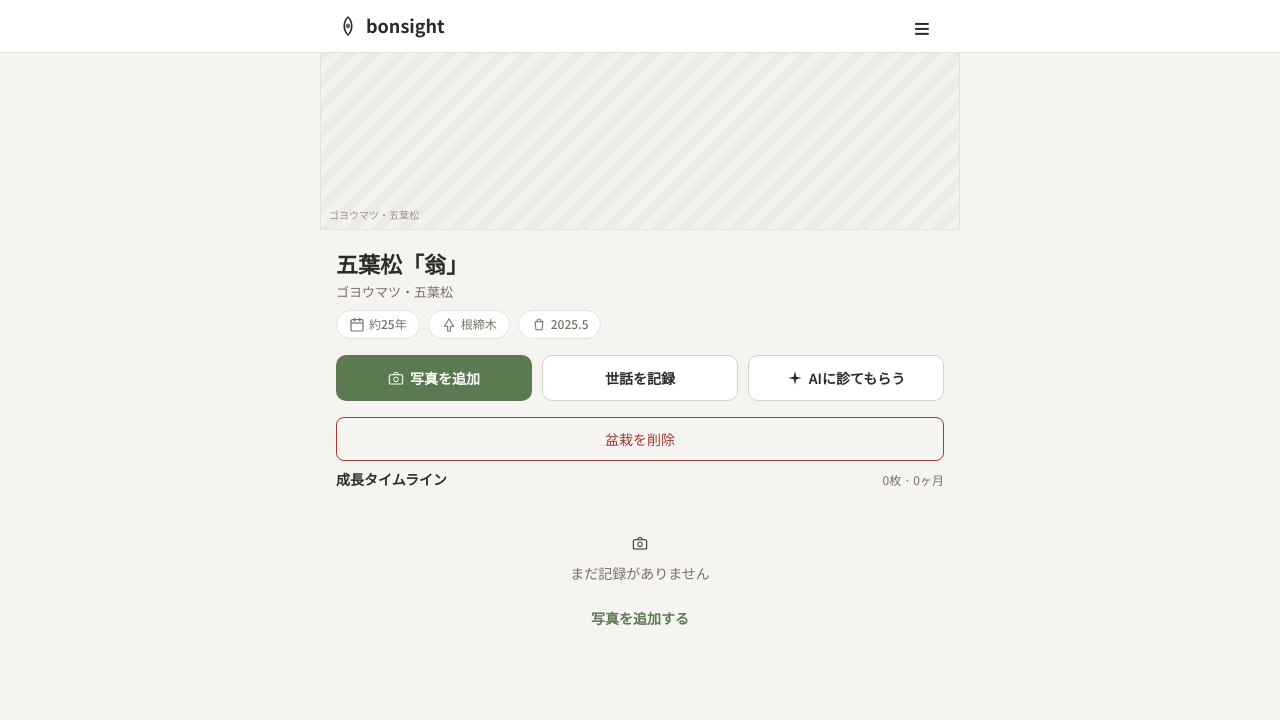
S3Detail › 「世話を記録」ボタンクリックでフォームが表示される
The width and height of the screenshot is (1280, 720).
(page scrolled)
Expected: the heading "五葉松「翁」" is shown, 336,247 -> 468,279
Click the button "世話を記録" at coordinates (640, 378), box 542,355 -> 738,401
(page scrolled)
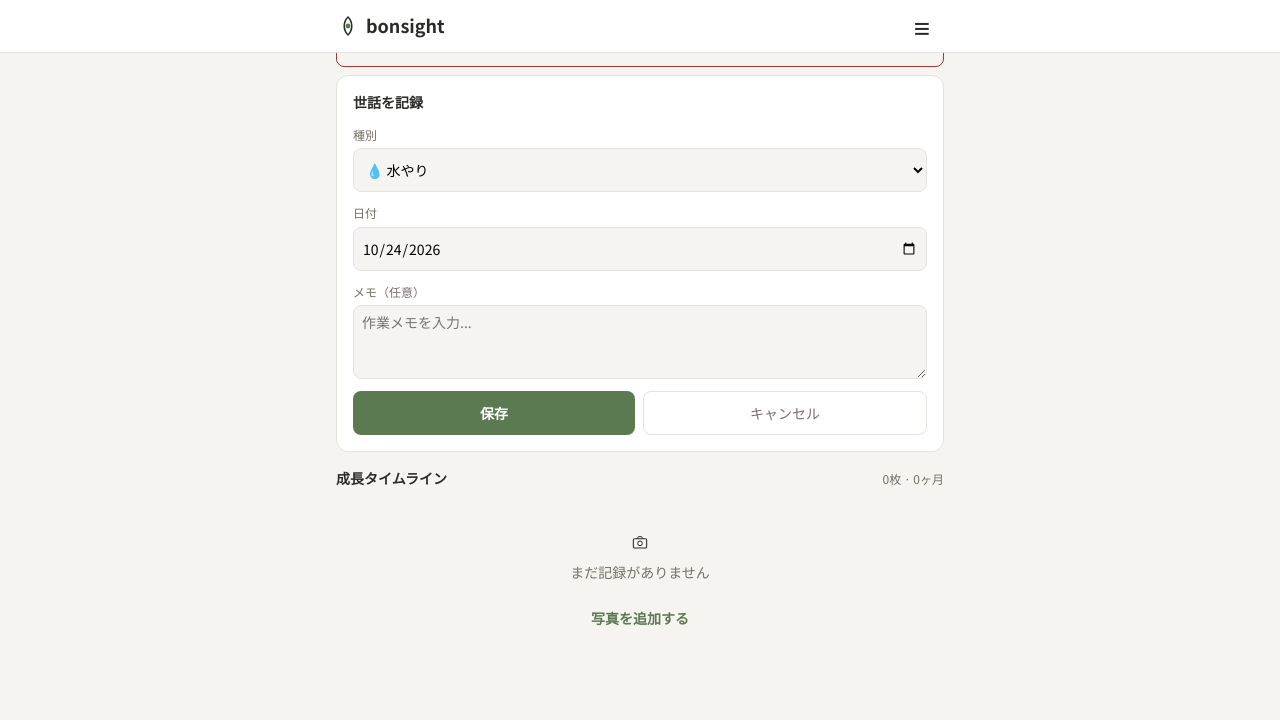
Expected: the heading "世話を記録" is shown, 353,92 -> 423,112
Expected: the button "保存" is shown, 353,391 -> 635,435
Expected: the button "キャンセル" is shown, 643,391 -> 927,435
